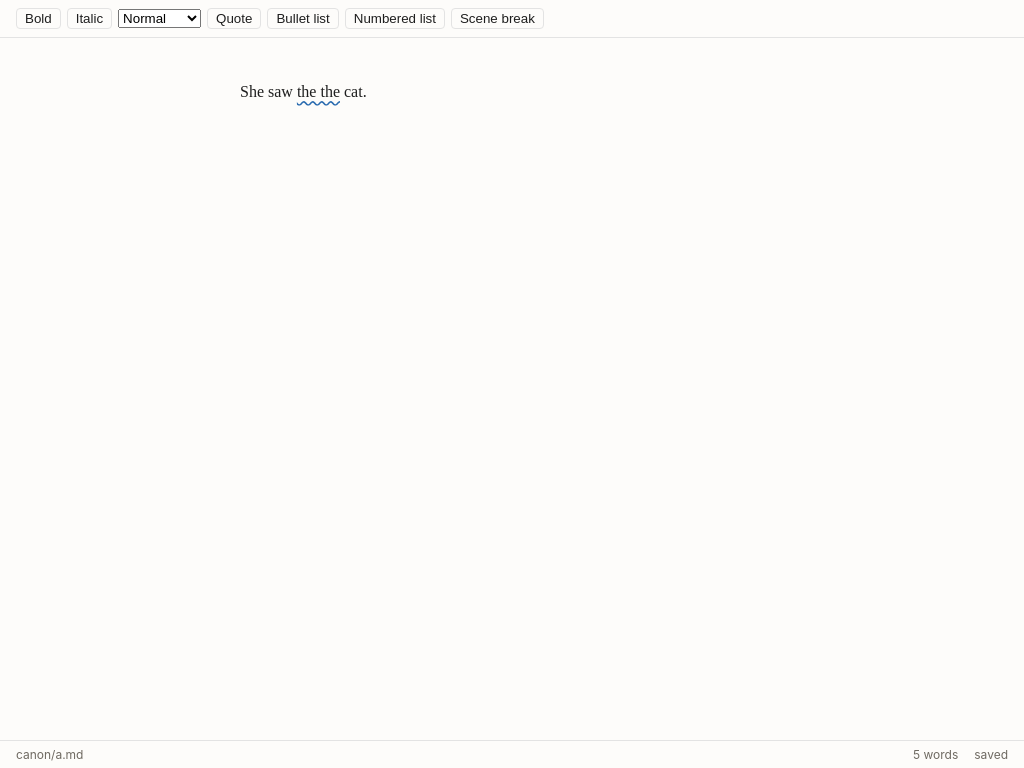
Scenario: Escape closes the popover without changing the text
Click the text box with class "cb-grammar": (318, 92) [297,83,340,100]
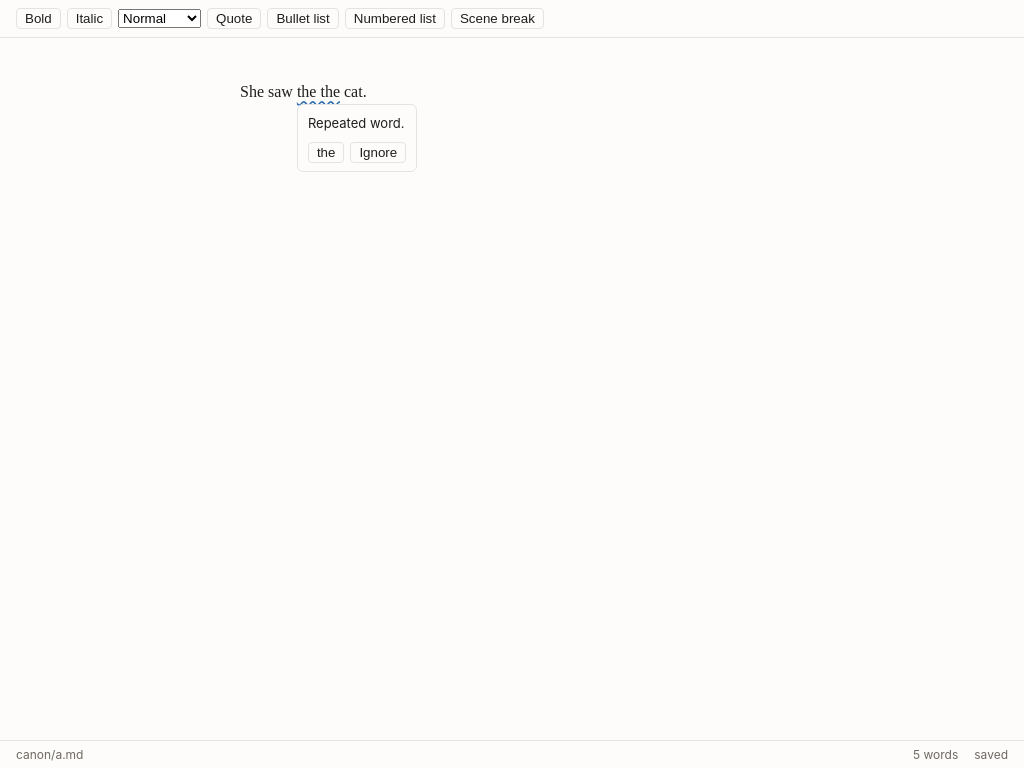
Expected: the dialog is shown, [297,104,417,172]
Press Escape
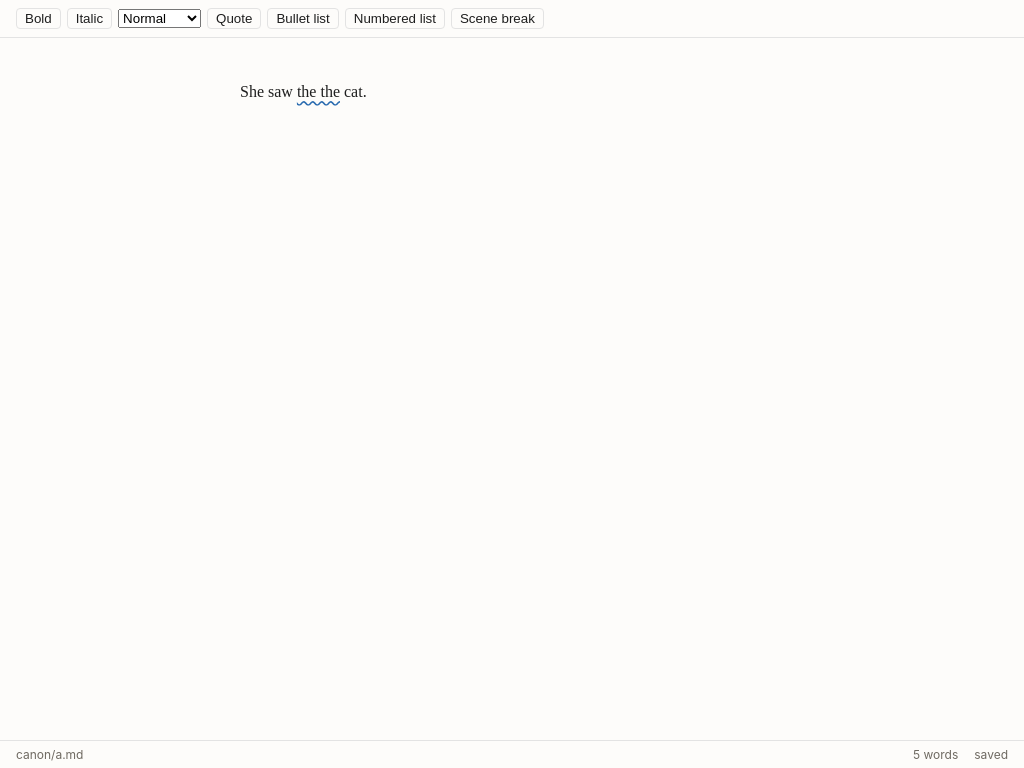
Expected: the dialog is gone
